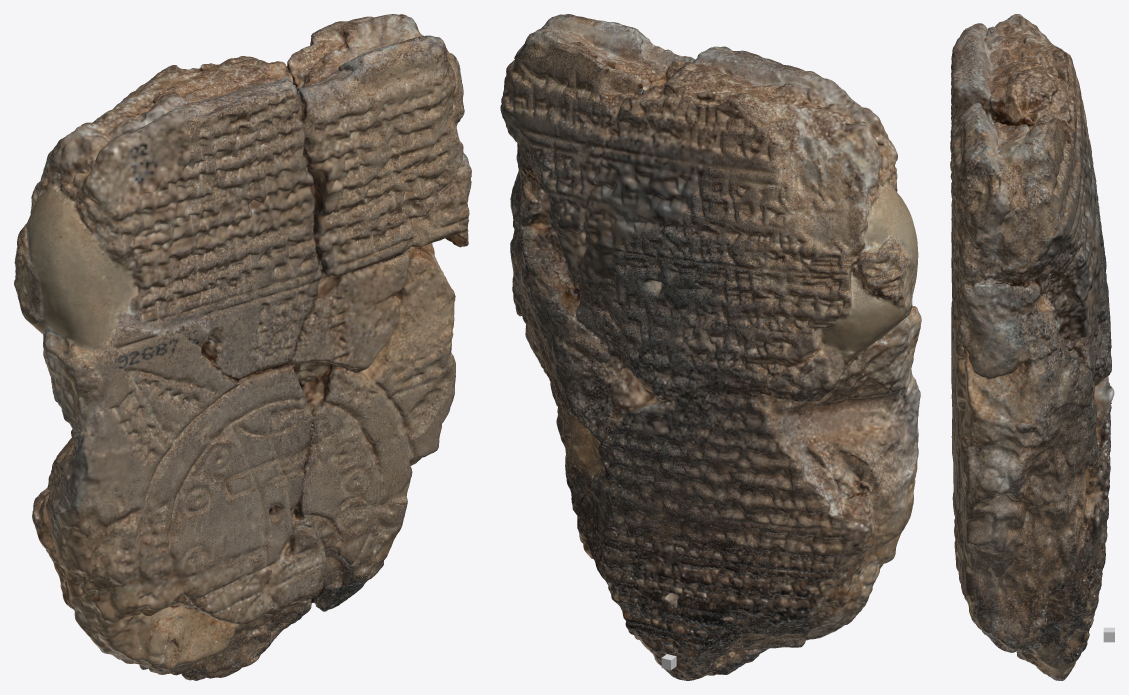
3 renders of one model, left to right at view 1: azimuth 30°, elevation 25°; view 2: azimuth 150°, elevation 25°; view 3: azimuth 270°, elevation 25°, orthographic. The views are drawn at different scales.
Parts seen in each view (by area): view 1: Test3d; view 2: Test3d; view 3: Test3d.
Boxes of the visible parts, x1=… form: Test3d: x1=14, y1=14, x2=471, y2=680; Test3d: x1=500, y1=14, x2=921, y2=680; Test3d: x1=950, y1=14, x2=1114, y2=680.
Size of the model in its own units: 85.14 by 121 by 29.44.
Materials: 2 (1 with a texture image).
